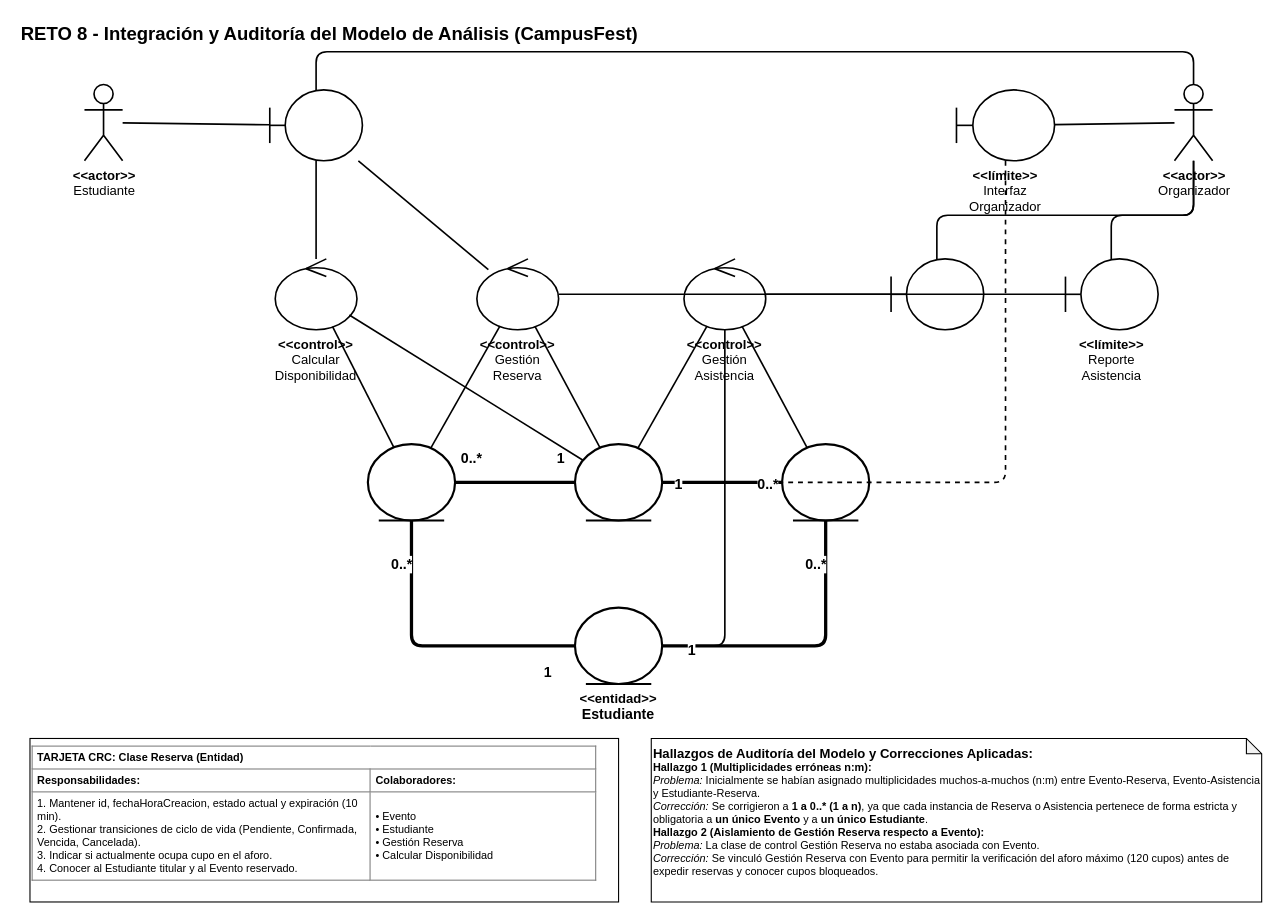
Some shapes in this 1281 by 921 pixel diagram are drawn without their labels. Here are the shapes that lost their labels. From the top down, the centre of each, then its label:
At (315,125): "<<límite>> Pantalla Eventos".
At (937,294): "<<límite>> Reporte Reservas".
At (411,482): "<<entidad>> Reserva".
At (618,482): "<<entidad>> Evento".
At (825,482): "<<entidad>> Asistencia".
